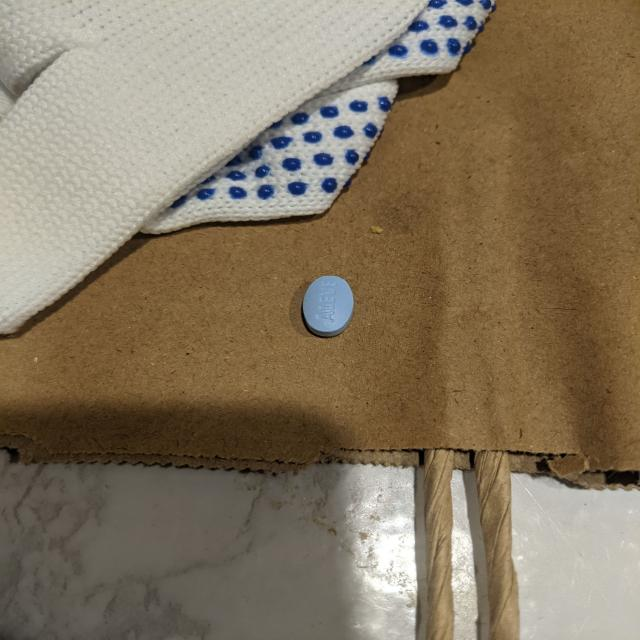non-organic waste: (302, 274, 354, 338)
